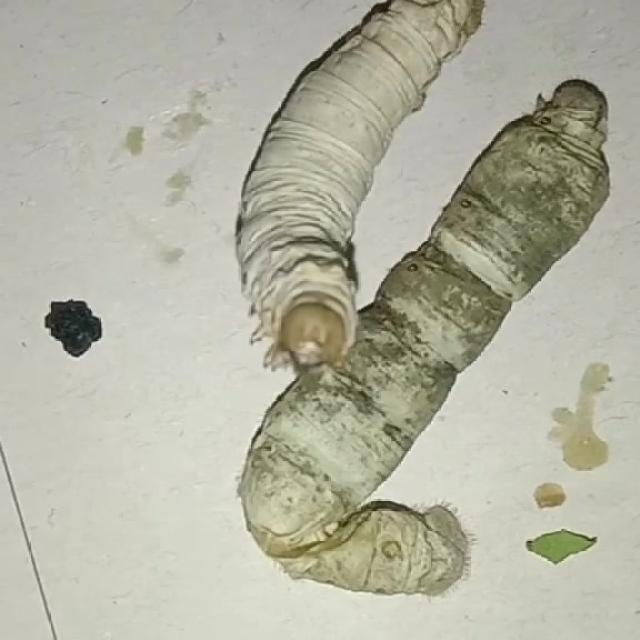Grasserie: (210, 0, 628, 620)
